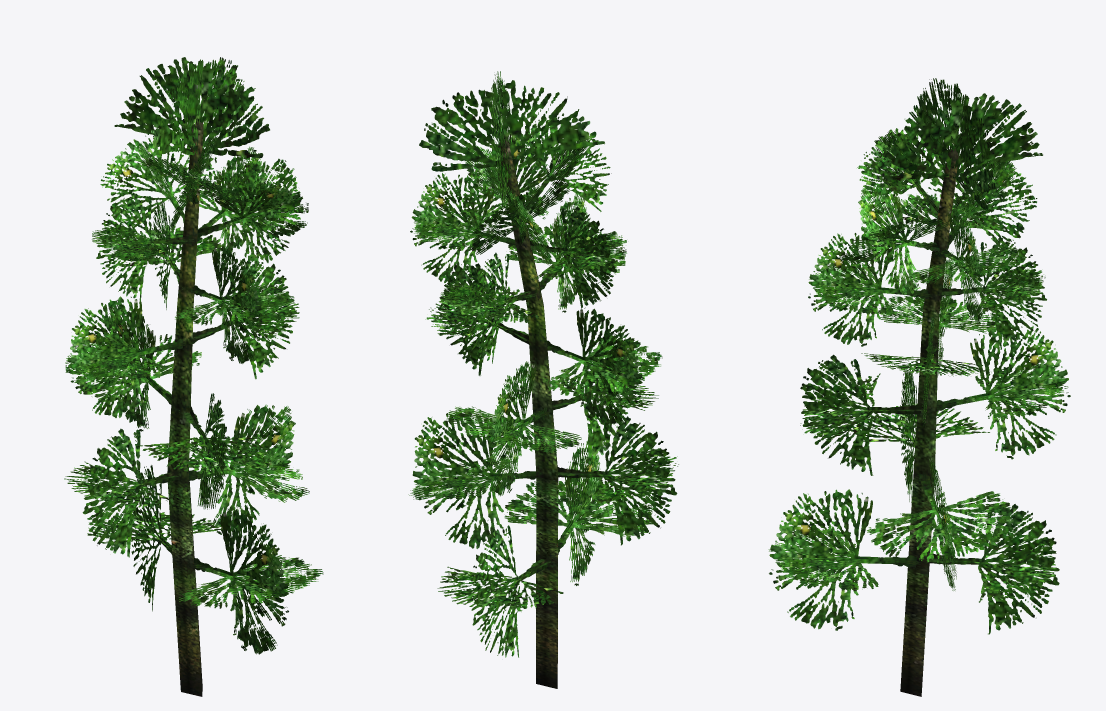
Rendered from bush_small_cabomba01.dae.
3 renders of one model, left to right at view 1: azimuth 30°, elevation 25°; view 2: azimuth 150°, elevation 25°; view 3: azimuth 270°, elevation 25°, orthographic.
Parts seen in each view (by area): view 1: cabomba01; view 2: cabomba01; view 3: cabomba01.
Part boxes in pixels (box(x1,y1,x2,y2)): cabomba01: box(64, 57, 323, 696); cabomba01: box(408, 71, 678, 688); cabomba01: box(768, 78, 1070, 696).
Size of the model in its own units: 0.2261 by 0.4916 by 0.2337.
